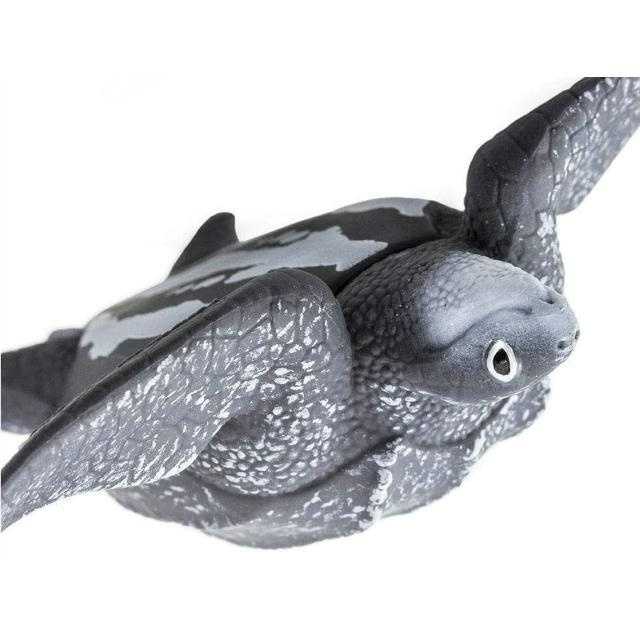turtle: (3, 79, 640, 550)
